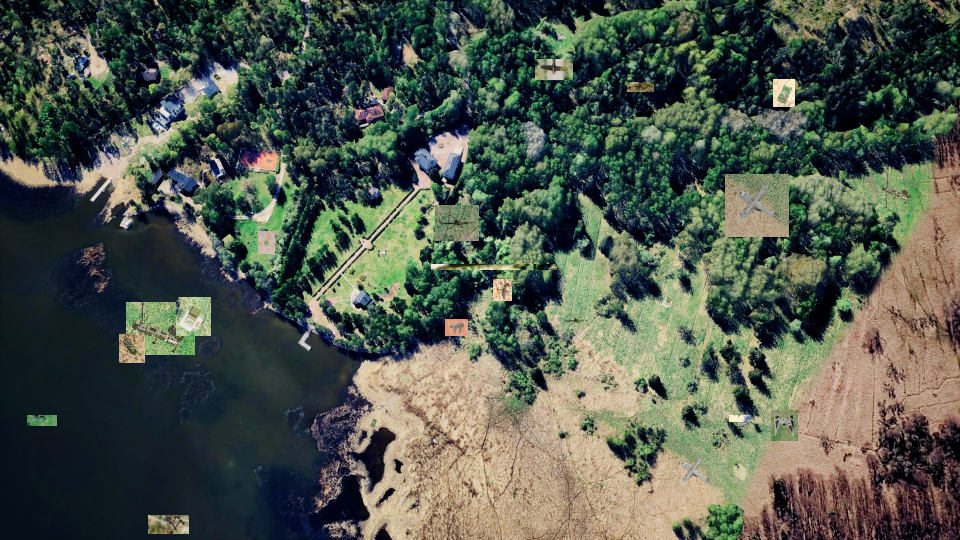condor: (725, 174, 789, 237)
hangar: (431, 264, 557, 270)
helicopter: (435, 205, 479, 241)
jammer: (773, 79, 795, 107)
jet_plane: (27, 415, 57, 426)
large_launcher: (126, 302, 195, 355)
large_tower: (148, 515, 189, 534)
medium_launcher: (627, 82, 654, 92)
medium_plane: (535, 59, 573, 80)
mine_roller: (119, 334, 145, 363)
small_launcher: (258, 231, 275, 254)
small_plane: (493, 279, 512, 301)
small_tower: (176, 297, 211, 336)
spacecraft: (771, 410, 798, 441)
ta-ta: (445, 319, 468, 336)
tank: (729, 415, 751, 422)
